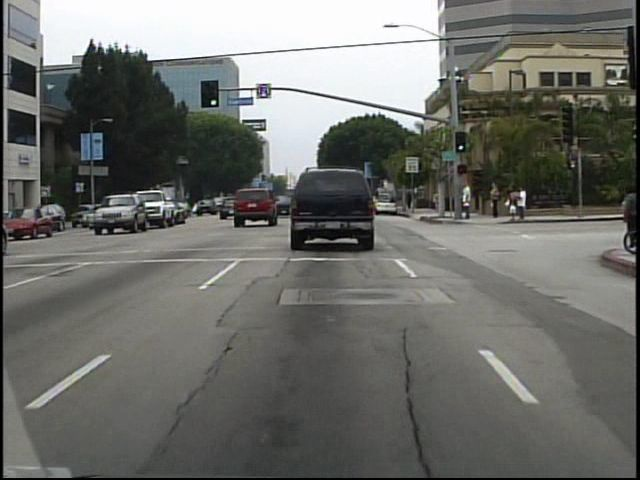person: (488, 179, 505, 222), (460, 178, 476, 222), (406, 186, 413, 211)
